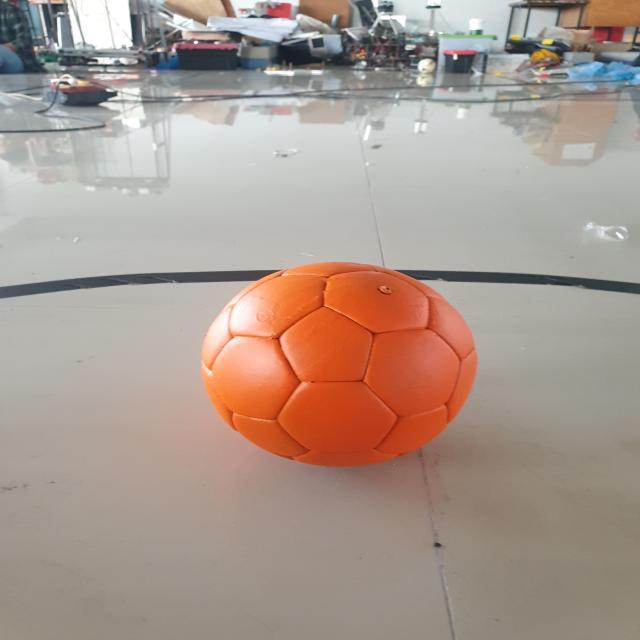bola: (190, 254, 492, 476)
